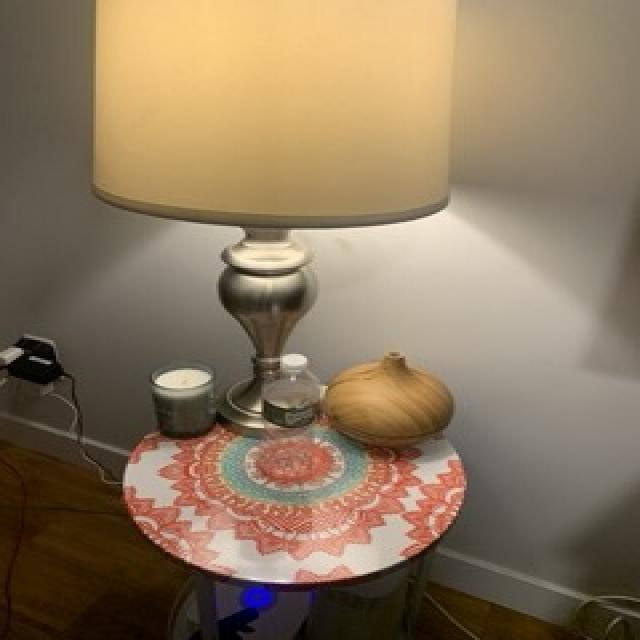water_bottle: (264, 353, 323, 481)
